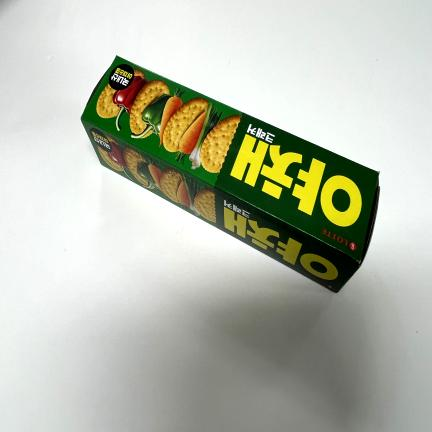cracker_vege: (81, 56, 380, 292)
